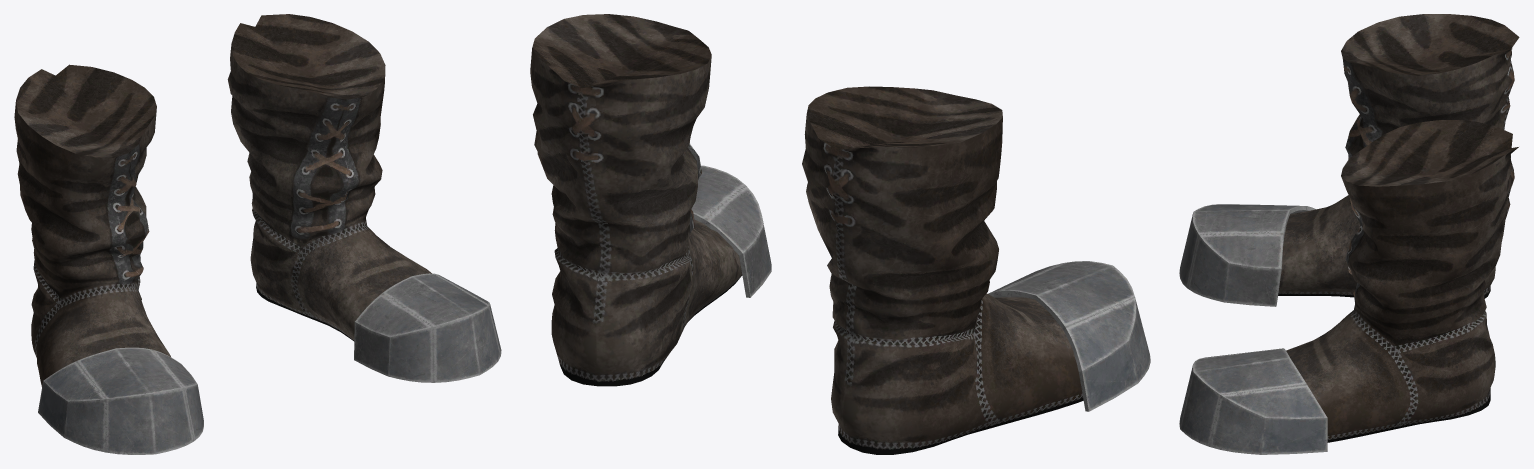
File: sk_dwarf_erebor_boots_med_a.fbx
3 views of the same model, side by side, from view 1: azimuth 30°, elevation 25°; view 2: azimuth 150°, elevation 25°; view 3: azimuth 270°, elevation 25° (orthographic). The views are drawn at different scales.
Parts seen in each view (by area): view 1: sk_dwarf_erebor_boots_med_a; view 2: sk_dwarf_erebor_boots_med_a; view 3: sk_dwarf_erebor_boots_med_a.
Part boxes in pixels (bbox=[...]): sk_dwarf_erebor_boots_med_a: bbox=[14, 14, 501, 454]; sk_dwarf_erebor_boots_med_a: bbox=[530, 14, 1150, 454]; sk_dwarf_erebor_boots_med_a: bbox=[1179, 14, 1519, 454].
Bounding box in the file's own units: 0.5389 × 0.3634 × 0.3053.
1 material, 1 textured.
